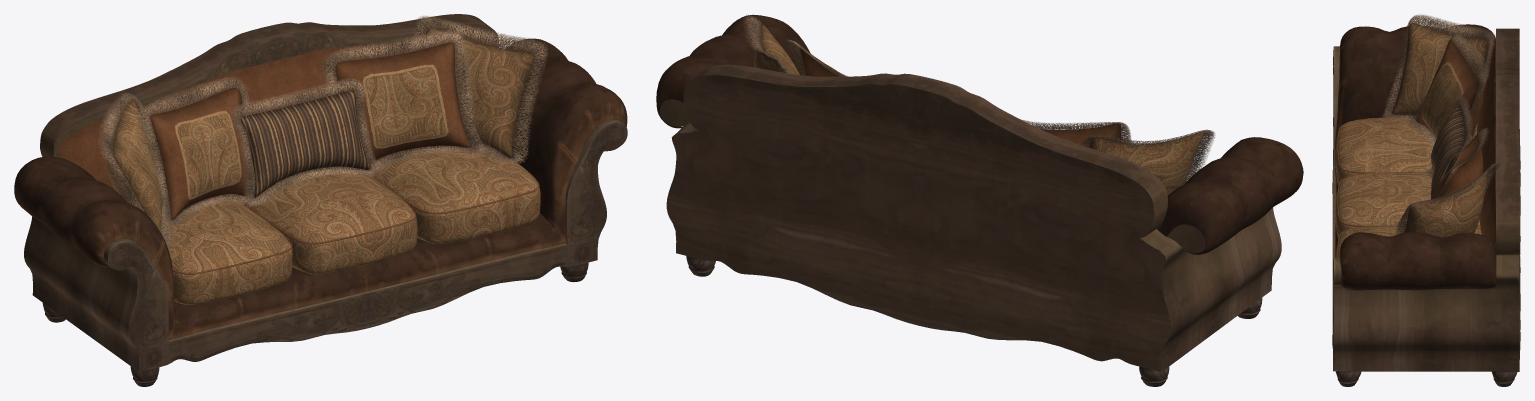
Rendered from pavilion.glb.
3 renders of one model, left to right at view 1: azimuth 30°, elevation 25°; view 2: azimuth 150°, elevation 25°; view 3: azimuth 270°, elevation 25°, orthographic. The views are drawn at different scales.
Visible parts, largest first — view 1: Frame, Paisley, Fringe, Brown, Stripes, Frame_Fabric; view 2: Frame, Paisley, Fringe, Brown; view 3: Frame, Paisley, Fringe, Brown, Frame_Fabric, Stripes.
Boxes of the visible parts, x1,y1,x2,y2 form: Frame: (14, 14, 627, 386); Paisley: (107, 27, 540, 304); Fringe: (98, 16, 547, 246); Brown: (150, 42, 539, 274); Stripes: (174, 64, 448, 199); Frame_Fabric: (57, 34, 494, 189); Frame: (656, 14, 1303, 386); Paisley: (754, 23, 1204, 194); Fringe: (743, 14, 1214, 182); Brown: (800, 46, 1121, 147); Frame: (1332, 24, 1520, 386); Paisley: (1335, 23, 1487, 257); Fringe: (1382, 14, 1499, 235); Brown: (1336, 40, 1483, 257); Frame_Fabric: (1477, 39, 1495, 245); Stripes: (1422, 61, 1472, 198).
Size of the model in its own units: 2.73 by 1.12 by 0.9232.
6 materials, 6 textured.
